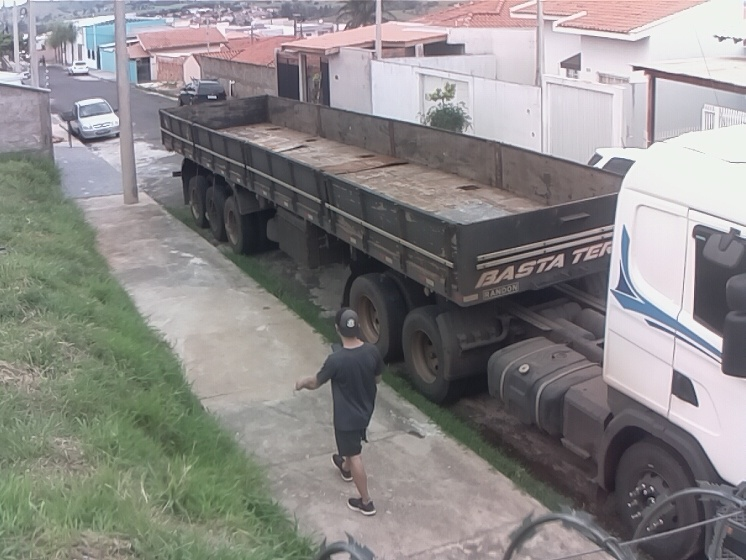person: (293, 305, 394, 520)
